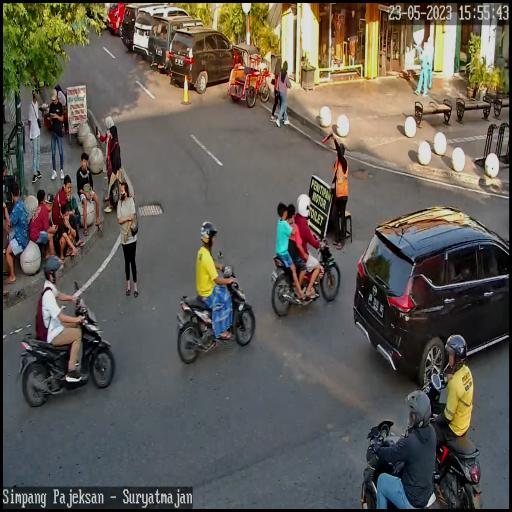mobil: (356, 195, 511, 381), (170, 27, 239, 90), (151, 15, 204, 77), (134, 6, 190, 64)
motor: (18, 287, 117, 410), (174, 246, 260, 365), (424, 360, 483, 512), (268, 226, 342, 320), (359, 406, 408, 512)
